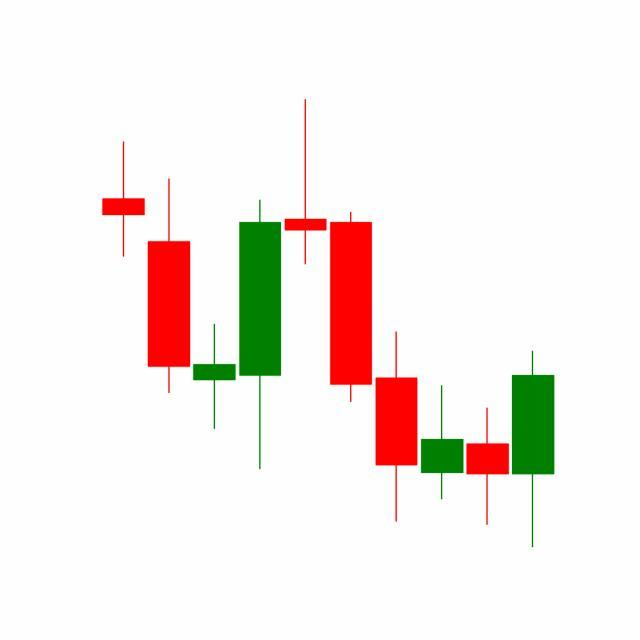Hikkake Pattern: (283, 99, 512, 531)
